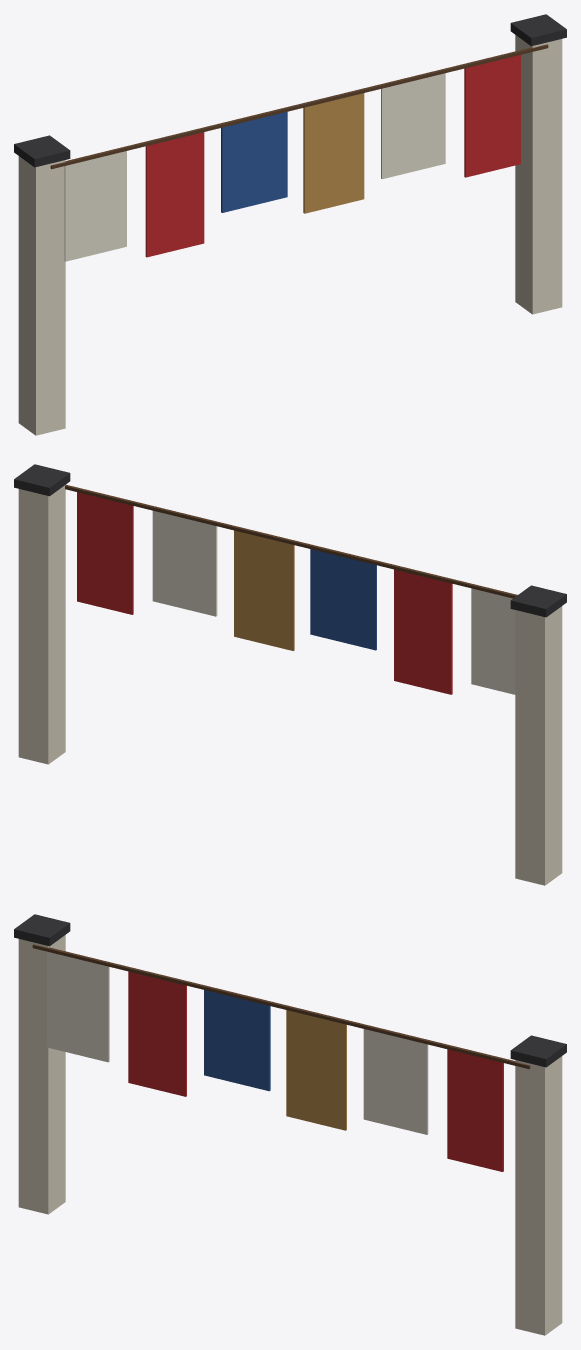
Rendered from rome_laundry.glb.
The picture shows the model from 3 angles, top to bottom: view 1: azimuth 30°, elevation 25°; view 2: azimuth 150°, elevation 25°; view 3: azimuth 330°, elevation 25°; orthographic projection.
Parts seen in each view (by area): view 1: rome_laundry; view 2: rome_laundry; view 3: rome_laundry.
Part boxes in pixels (x1,y1,x2,y2): rome_laundry: (14, 14, 566, 435); rome_laundry: (14, 464, 566, 885); rome_laundry: (14, 914, 566, 1335).
Size of the model in its own units: 5.36 by 2.68 by 0.36.
